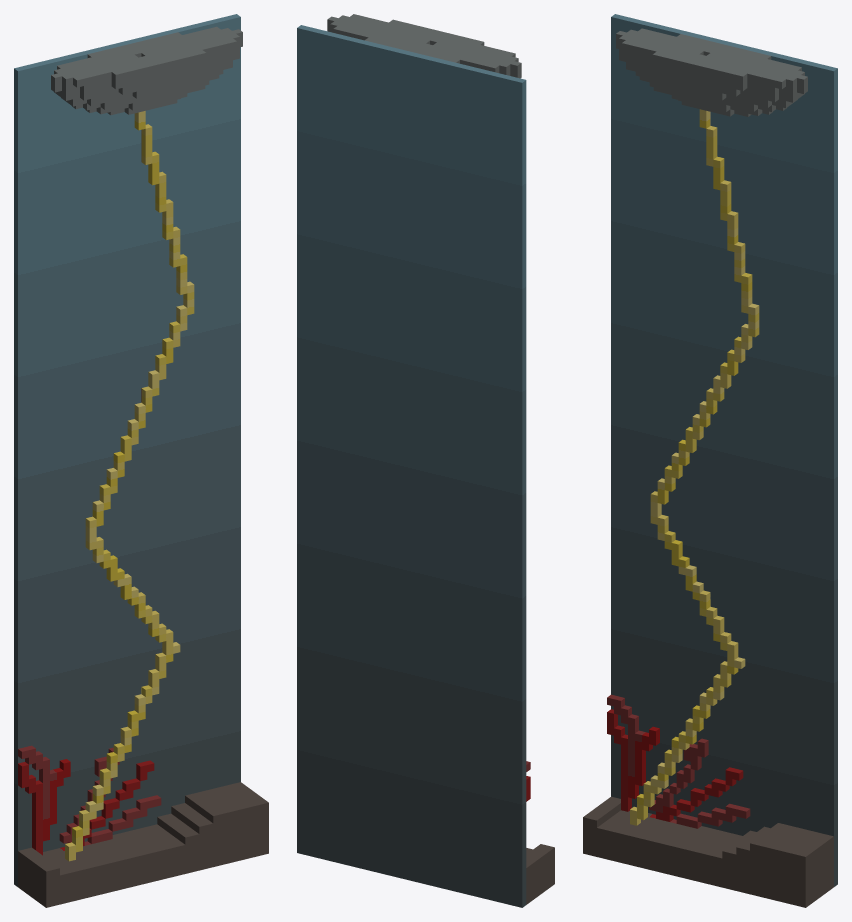
File: scene_lightning.glb
3 views of the same model, side by side, from view 1: azimuth 30°, elevation 25°; view 2: azimuth 150°, elevation 25°; view 3: azimuth 330°, elevation 25° (orthographic).
Parts seen in each view (by area): view 1: scene_lightning_92, scene_lightning_91; view 2: scene_lightning_92, scene_lightning_91; view 3: scene_lightning_92, scene_lightning_91.
Part boxes in pixels (left/top/right/bottom): scene_lightning_92: left=14, top=14, right=240, bottom=886; scene_lightning_91: left=18, top=26, right=268, bottom=907; scene_lightning_92: left=297, top=25, right=526, bottom=907; scene_lightning_91: left=327, top=14, right=554, bottom=904; scene_lightning_92: left=611, top=14, right=837, bottom=886; scene_lightning_91: left=583, top=28, right=833, bottom=907.
Bounding box in the file's own units: 3.2 × 11.2 × 0.8.
1 material, 1 textured.
